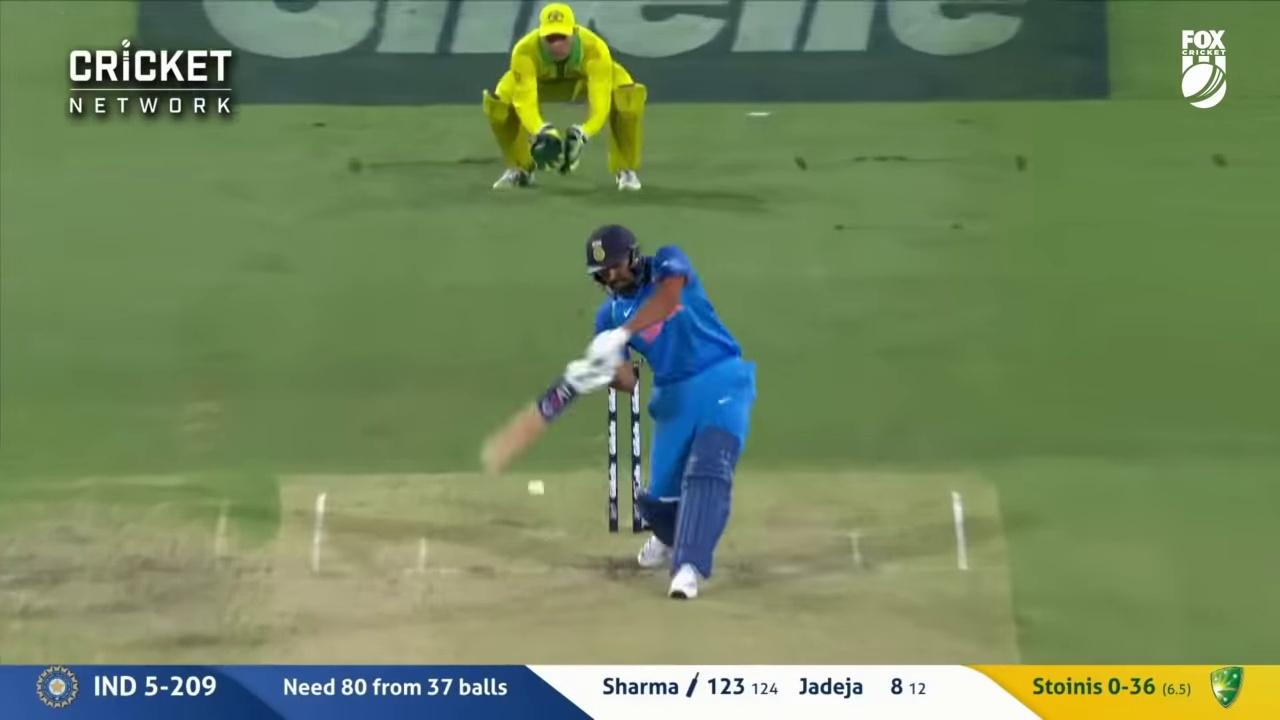batsman: (482, 223, 754, 599)
